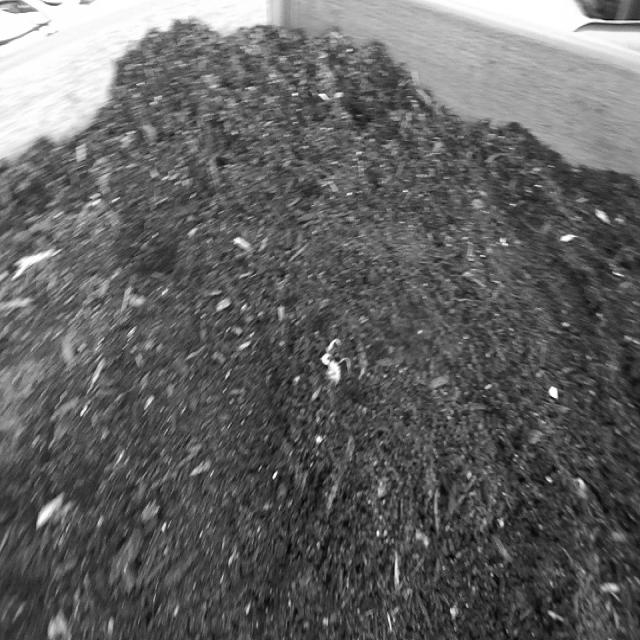Unhealthy: (317, 320, 359, 392)
